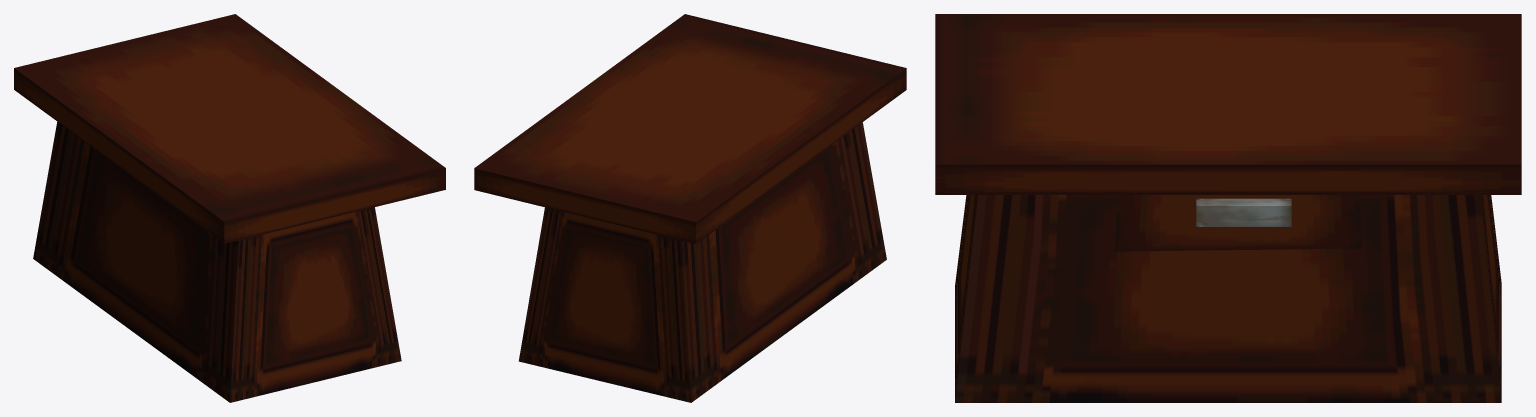
The model's file is Schreibtisch_Klein [Dunkel]_164.glb.
3 renders of one model, left to right at view 1: azimuth 30°, elevation 25°; view 2: azimuth 150°, elevation 25°; view 3: azimuth 270°, elevation 25°, orthographic. The views are drawn at different scales.
Visible parts, largest first — view 1: pPlaneShape11, pPlaneShape2, pPlaneShape3, pPlaneShape7, pPlaneShape6; view 2: pPlaneShape11, pPlaneShape2, pPlaneShape4, pPlaneShape8, pPlaneShape6; view 3: pPlaneShape1, pPlaneShape11, pPlaneShape5, pPlaneShape10, pPlaneShape15, pPlaneShape3, pPlaneShape4.
Boxes of the visible parts, box(x1,y1,x2,y2) form: pPlaneShape11: box(14, 14, 445, 221); pPlaneShape2: box(33, 122, 238, 402); pPlaneShape3: box(230, 207, 401, 402); pPlaneShape7: box(224, 168, 445, 243); pPlaneShape6: box(14, 68, 224, 243); pPlaneShape11: box(474, 14, 906, 222); pPlaneShape2: box(681, 122, 886, 402); pPlaneShape4: box(518, 207, 691, 402); pPlaneShape8: box(474, 168, 695, 243); pPlaneShape6: box(696, 68, 906, 243); pPlaneShape1: box(955, 195, 1501, 402); pPlaneShape11: box(935, 14, 1521, 164); pPlaneShape5: box(935, 164, 1521, 194); pPlaneShape10: box(1114, 195, 1361, 251); pPlaneShape15: box(1196, 198, 1291, 226); pPlaneShape3: box(955, 195, 977, 400); pPlaneShape4: box(1480, 195, 1501, 401).
Bounding box in the file's own units: 0.1478 × 0.1207 × 0.2433.
Materials: 15 (15 with a texture image).
